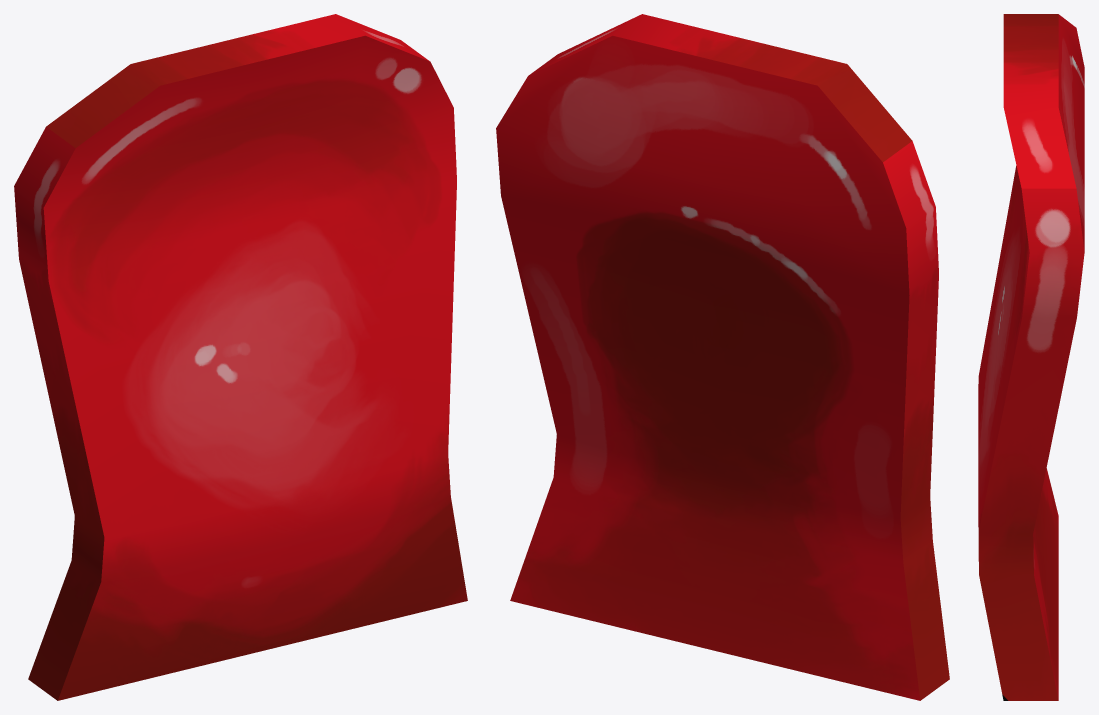
The model's file is Chair_Back.FBX.
3 renders of one model, left to right at view 1: azimuth 30°, elevation 25°; view 2: azimuth 150°, elevation 25°; view 3: azimuth 270°, elevation 25°, orthographic. The views are drawn at different scales.
Visible parts, largest first — view 1: Chair_back_062; view 2: Chair_back_062; view 3: Chair_back_062.
Part boxes in pixels (<box>): Chair_back_062: <box>14,14,467,700</box>; Chair_back_062: <box>496,14,949,700</box>; Chair_back_062: <box>978,14,1084,700</box>.
Bounding box in the file's own units: 80 × 19.32 × 110.
